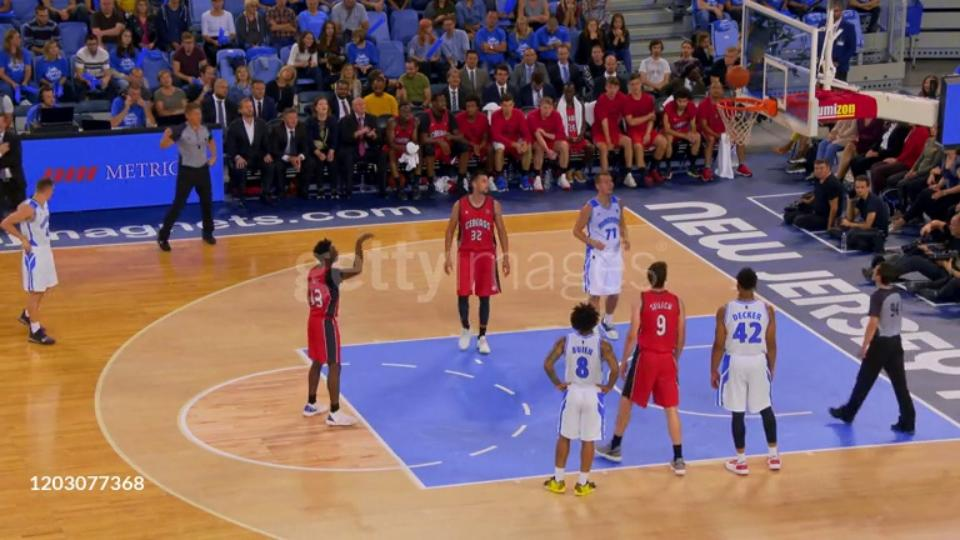hoop: (714, 95, 782, 121)
